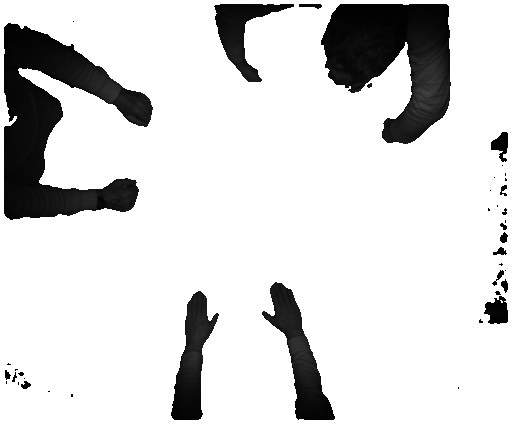fist: (106, 176, 143, 215), (121, 91, 159, 127), (242, 64, 263, 87)
hand: (256, 280, 311, 333), (184, 288, 223, 345)
